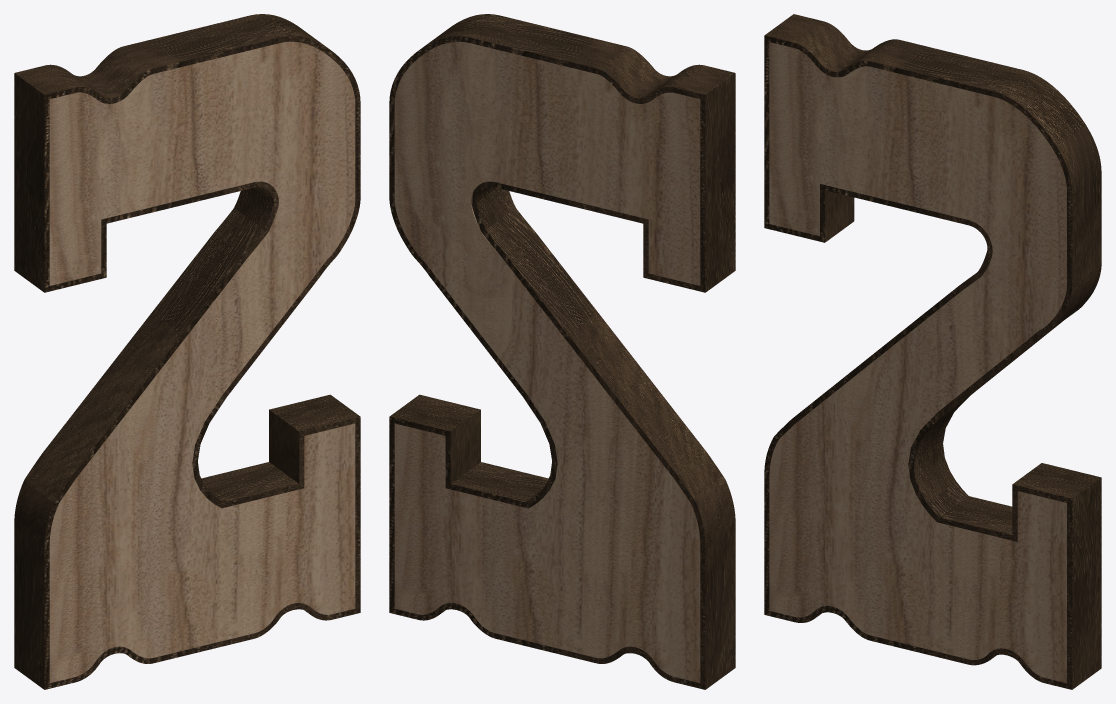
3 views of the same model, side by side, from view 1: azimuth 30°, elevation 25°; view 2: azimuth 150°, elevation 25°; view 3: azimuth 330°, elevation 25° (orthographic). The views are drawn at different scales.
Visible parts, largest first — view 1: 2, 2_outline; view 2: 2, 2_outline; view 3: 2, 2_outline.
Boxes of the visible parts, <box> form: 2: <box>49,41,355,682</box>; 2_outline: <box>14,14,360,689</box>; 2: <box>394,41,700,682</box>; 2_outline: <box>389,14,735,689</box>; 2: <box>769,42,1066,683</box>; 2_outline: <box>764,14,1101,689</box>.
Size of the model in its own units: 60.5 by 109 by 10.
Materials: 2 (2 with a texture image).
